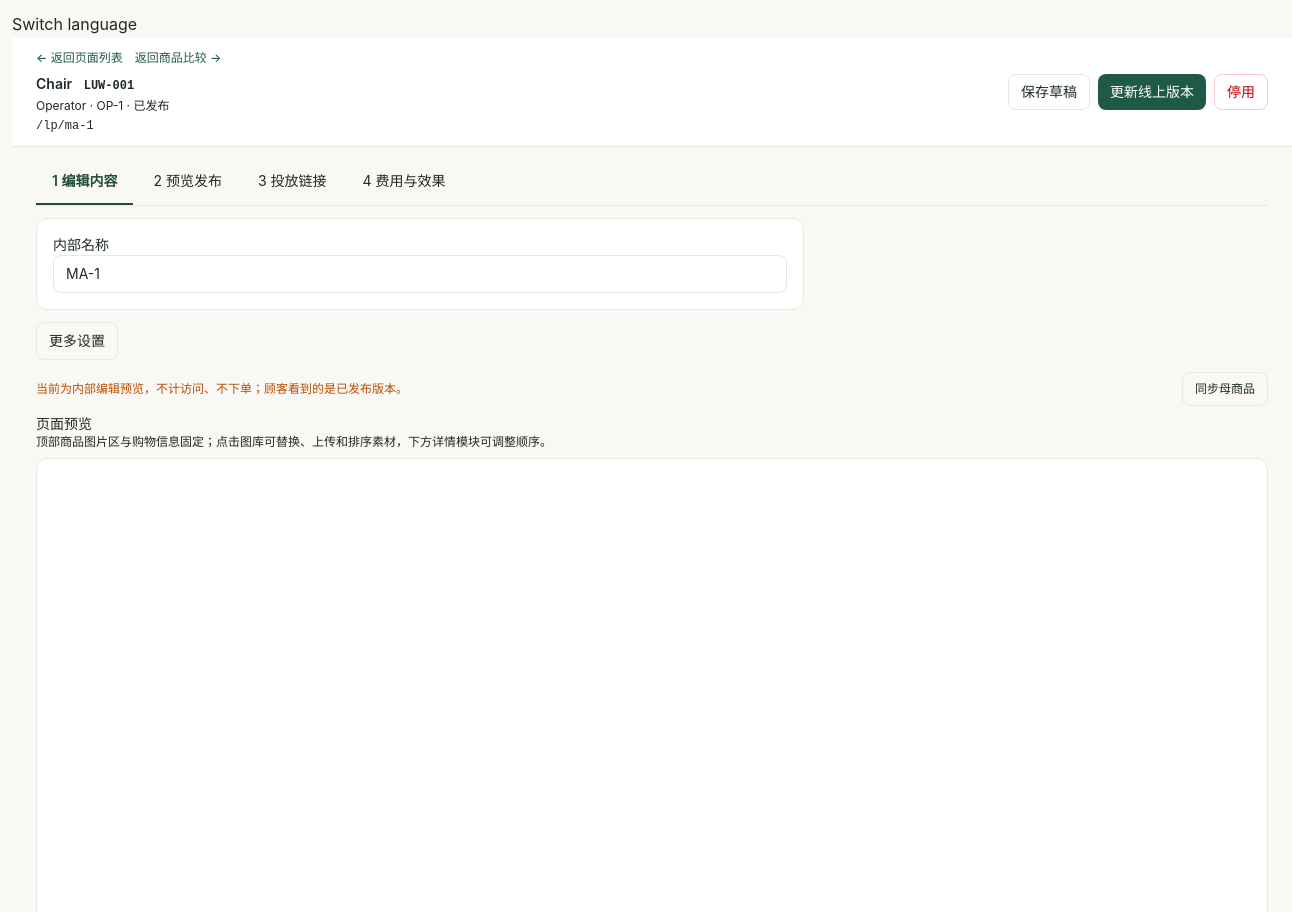
marketing page editing › preserves entered names on a server version conflict without retrying or reloading
The image size is (1292, 912).
Expected: the text "LUW-001" is shown, x1=84 y1=79 x2=134 y2=93
Click the button "更多设置" at (77, 341), box x1=36 y1=322 x2=118 y2=360
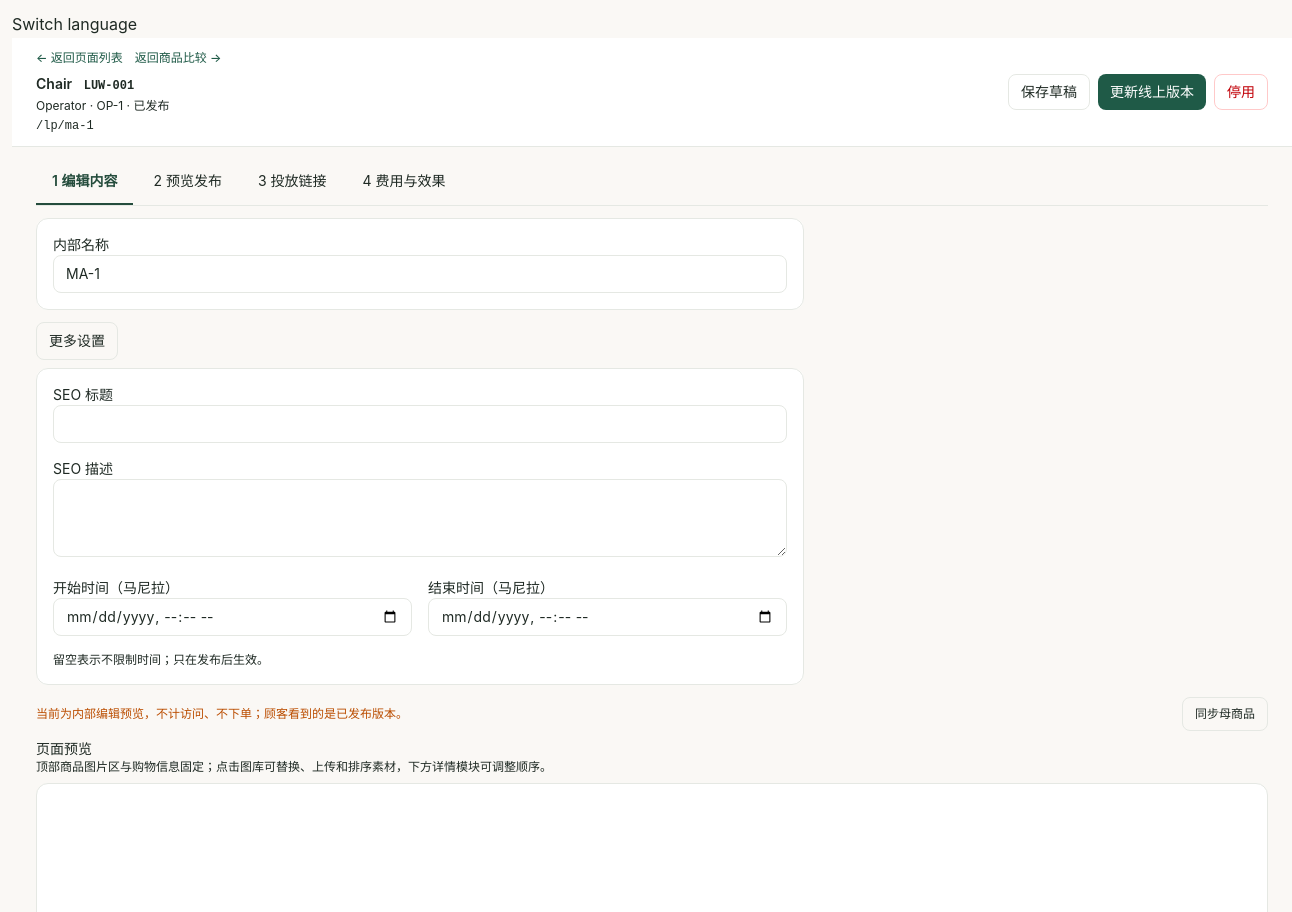
Replace the text in the field labelled "内部名称" with "My unsaved campaign" at (420, 274), box x1=53 y1=255 x2=787 y2=293
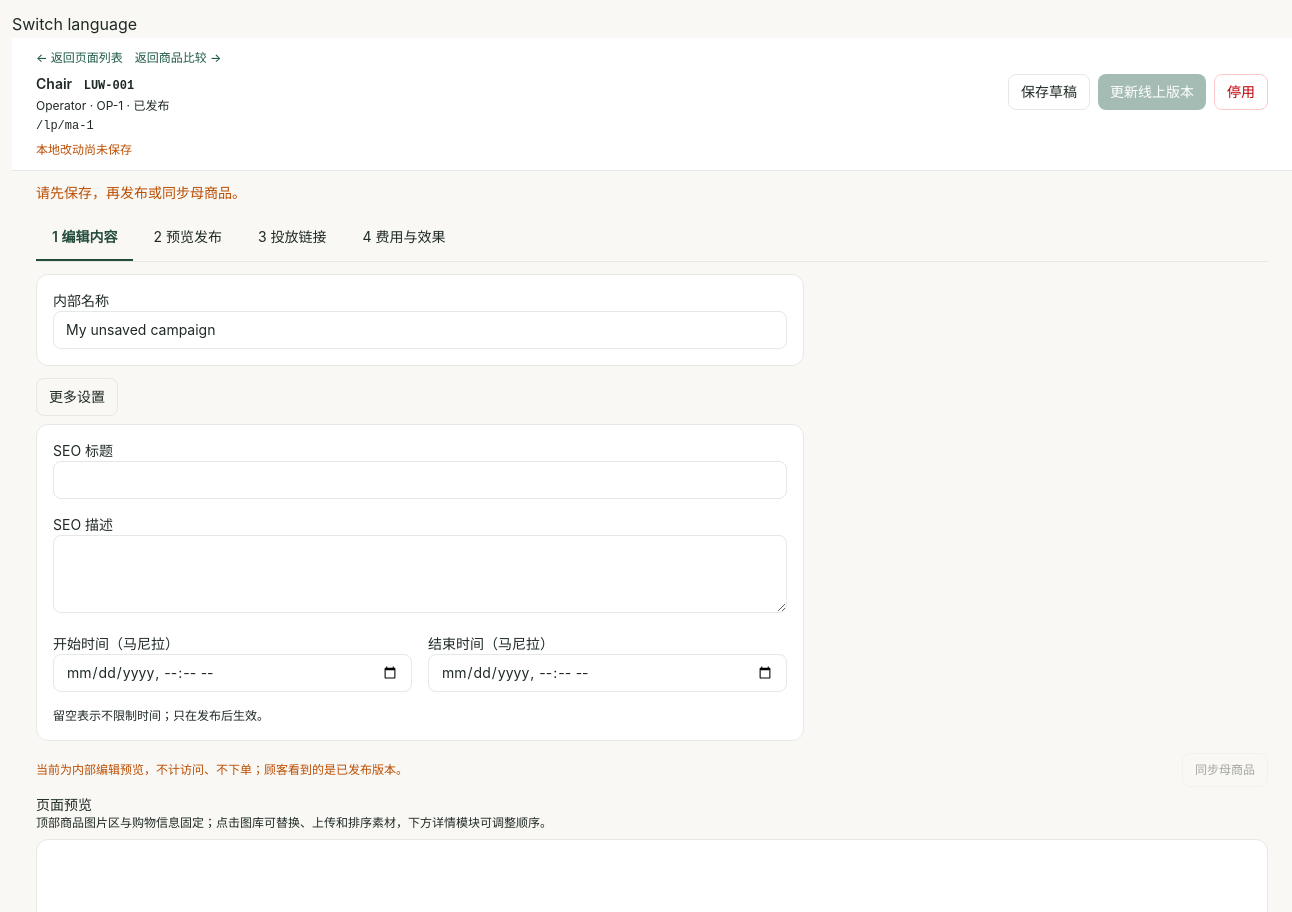
Click the button "保存草稿" at (1049, 92), box x1=1008 y1=74 x2=1090 y2=110
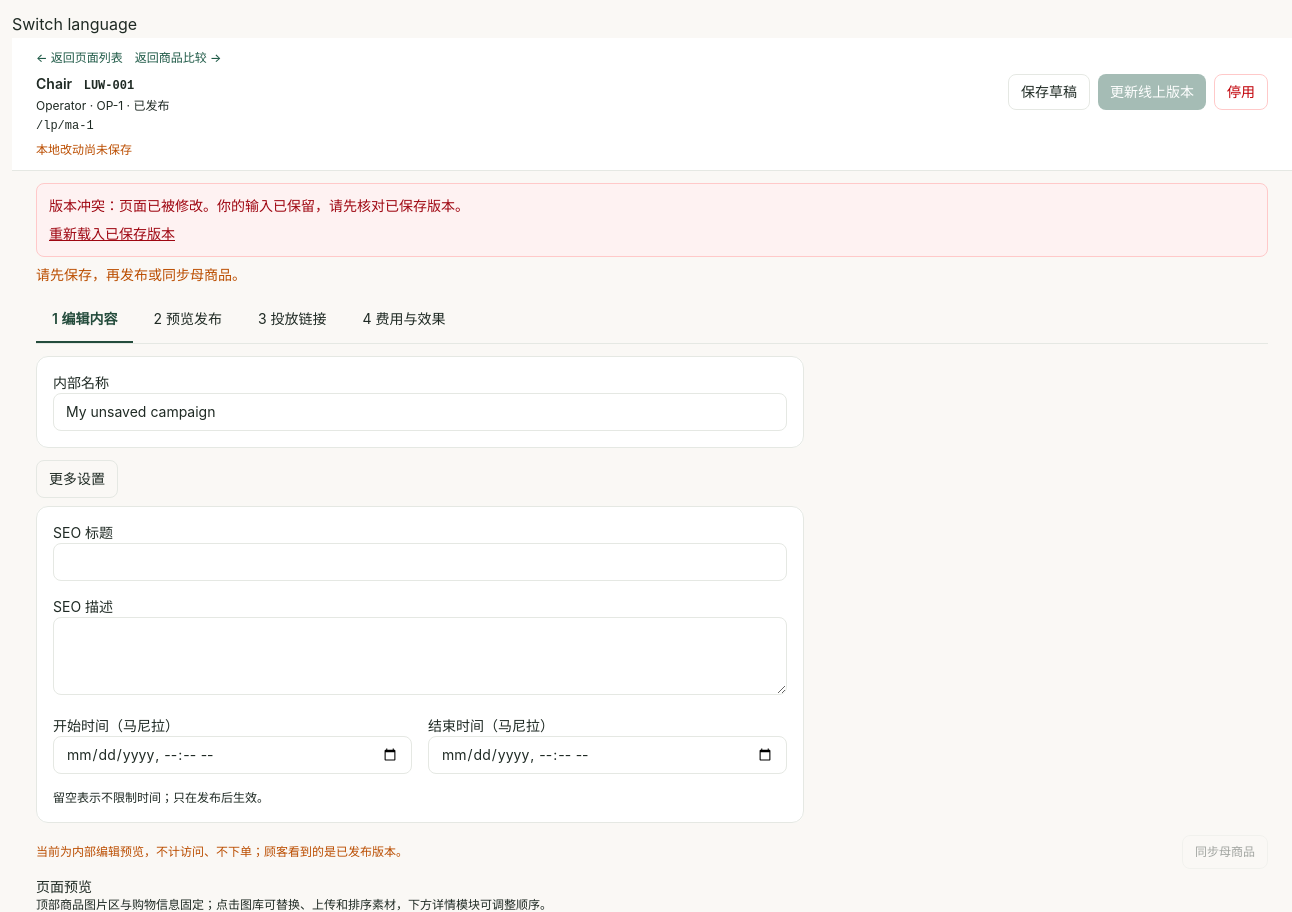
Expected: the text "版本冲突：页面已被修改。你的输入已保留，请先核对已保存版本。" is shown, x1=49 y1=197 x2=469 y2=214
